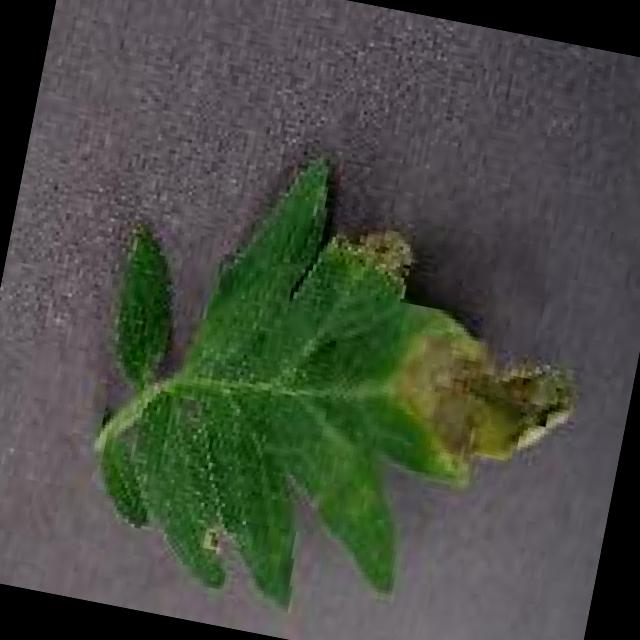leaf blight: (86, 149, 575, 621)
